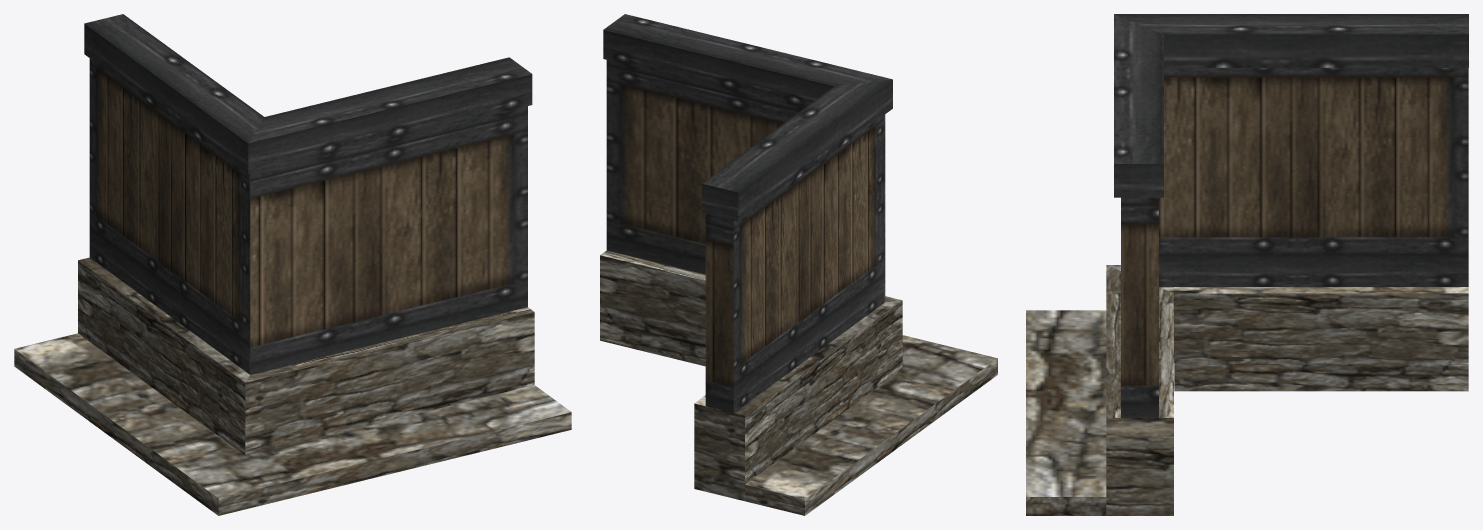
3 views of the same model, side by side, from view 1: azimuth 30°, elevation 25°; view 2: azimuth 150°, elevation 25°; view 3: azimuth 270°, elevation 25° (orthographic). The views are drawn at different scales.
Parts seen in each view (by area): view 1: a77; view 2: a77; view 3: a77.
Boxes of the visible parts, bbox=[...] form: a77: bbox=[14, 14, 571, 515]; a77: bbox=[600, 14, 997, 515]; a77: bbox=[1026, 14, 1468, 515].
Size of the model in its own units: 765 by 671 by 764.
